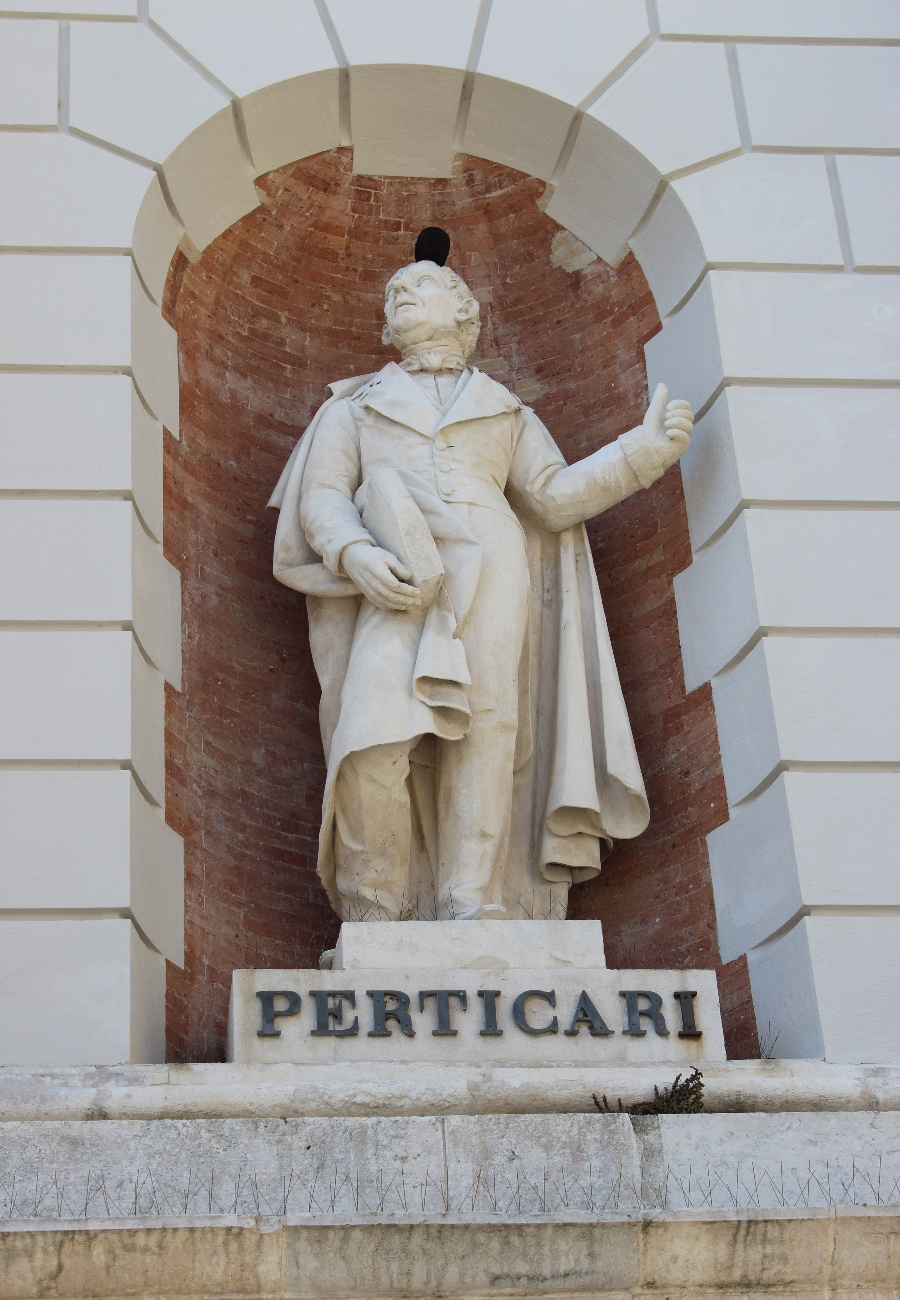Giulio Perticari: (132, 91, 756, 1064)
